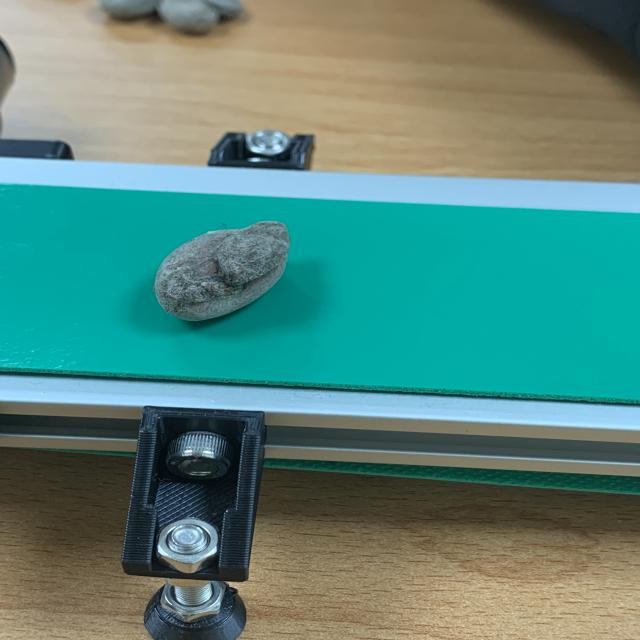Agglomerated_cocoabeans: (84, 185, 369, 378)
